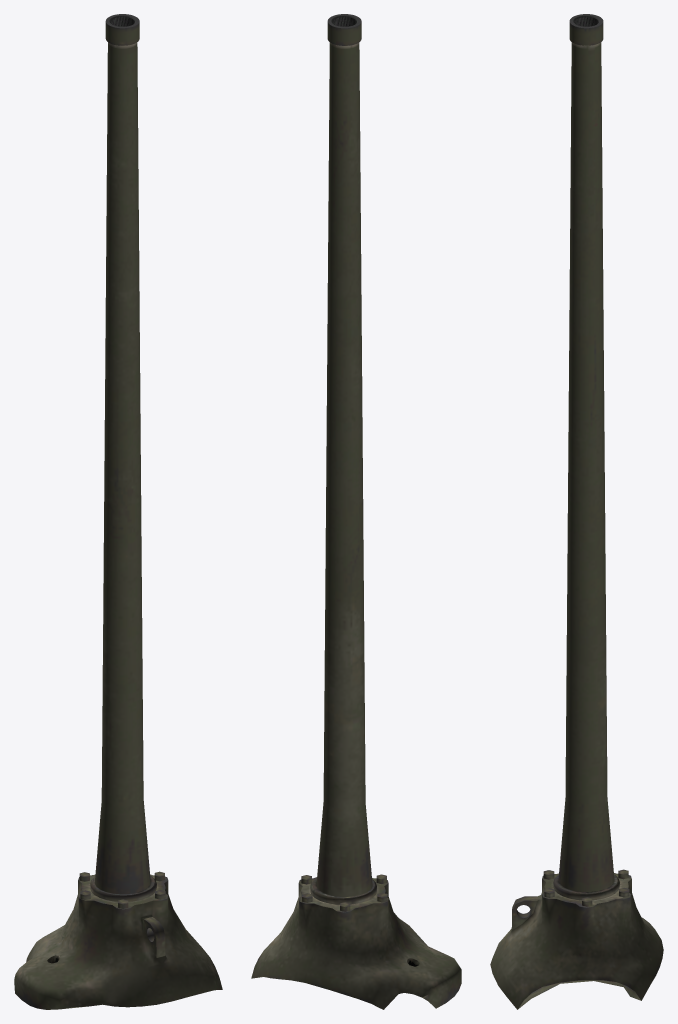
Rendered from Gun_02.glb.
3 views of the same model, side by side, from view 1: azimuth 30°, elevation 25°; view 2: azimuth 150°, elevation 25°; view 3: azimuth 270°, elevation 25° (orthographic).
Parts seen in each view (by area): view 1: set_0_group_0; view 2: set_0_group_0; view 3: set_0_group_0.
Boxes of the visible parts, x1=… form: set_0_group_0: x1=14, y1=14, x2=222, y2=1009; set_0_group_0: x1=251, y1=14, x2=461, y2=1009; set_0_group_0: x1=490, y1=14, x2=663, y2=1009.
Size of the model in its own units: 0.7907 by 4.35 by 0.7137.
1 material, 1 textured.
